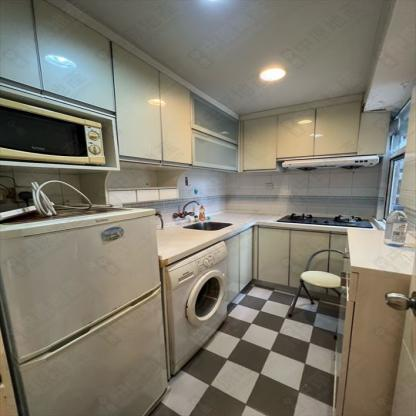Exhaust Hood: (281, 155, 378, 172)
Faucet: (180, 200, 201, 213)
Microwave: (0, 97, 105, 166)
Sink: (182, 222, 232, 230)
Stove: (277, 212, 372, 227)
Washing Machine: (163, 241, 228, 379)
